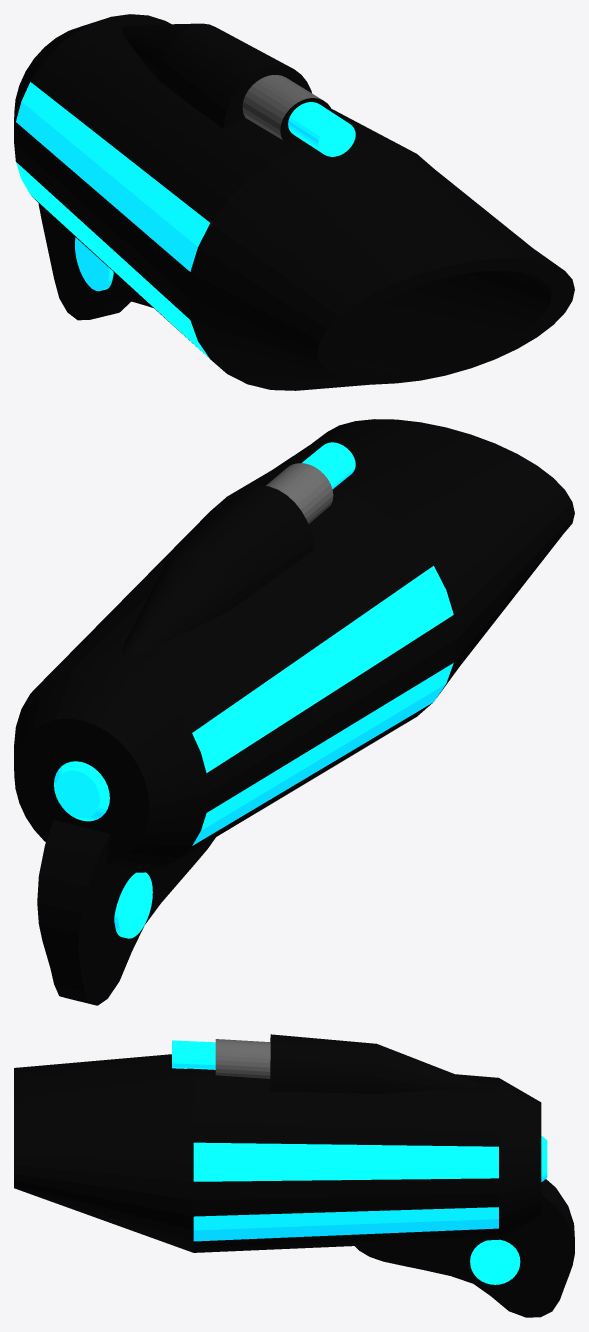
Rendered from Cyb3r Gun.fbx.
The picture shows the model from 3 angles, top to bottom: view 1: azimuth 30°, elevation 25°; view 2: azimuth 150°, elevation 25°; view 3: azimuth 270°, elevation 25°; orthographic projection. The views are drawn at different scales.
Visible parts, largest first — view 1: Cylinder.001; view 2: Cylinder.001; view 3: Cylinder.001.
Part boxes in pixels (box(x1,y1,x2,y2)): Cylinder.001: box(14, 14, 574, 390); Cylinder.001: box(14, 419, 574, 1005); Cylinder.001: box(14, 1034, 574, 1317).
Bounding box in the file's own units: 56.41 × 76.15 × 141.
